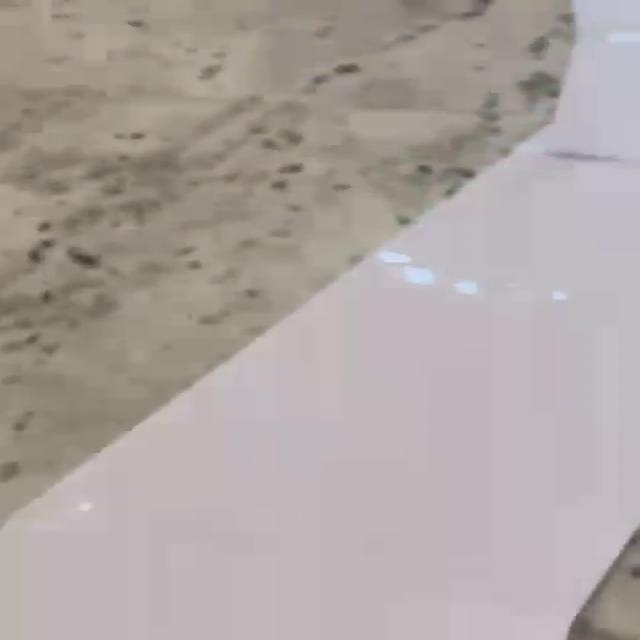road: (0, 0, 640, 640)
